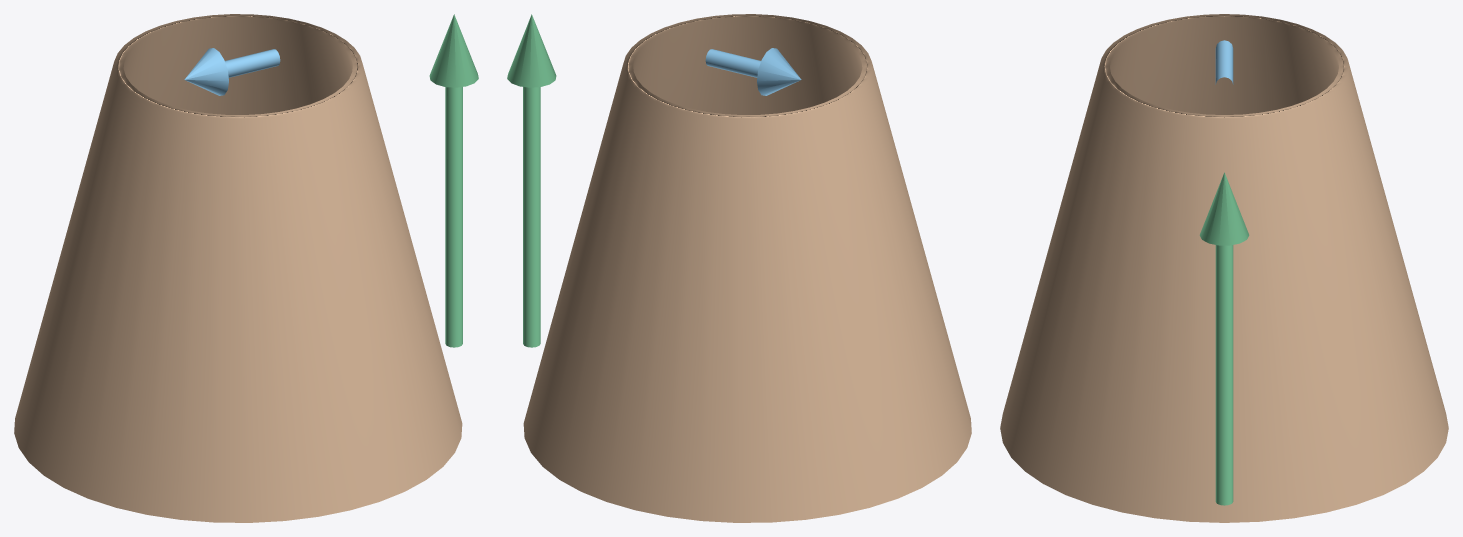
Rendered from frustum.glb.
The picture shows the model from 3 angles, left to right: view 1: azimuth 30°, elevation 25°; view 2: azimuth 150°, elevation 25°; view 3: azimuth 270°, elevation 25°; orthographic projection.
Parts seen in each view (by area): view 1: frustum, frustum_height, frustum_r2; view 2: frustum, frustum_height, frustum_r2; view 3: frustum, frustum_height, frustum_r2.
Boxes of the visible parts, bbox=[...] form: frustum: bbox=[14, 14, 462, 522]; frustum_height: bbox=[429, 14, 478, 347]; frustum_r2: bbox=[184, 48, 280, 95]; frustum: bbox=[523, 14, 971, 522]; frustum_height: bbox=[507, 14, 556, 347]; frustum_r2: bbox=[705, 48, 801, 95]; frustum: bbox=[1000, 14, 1448, 522]; frustum_height: bbox=[1199, 172, 1249, 505]; frustum_r2: bbox=[1215, 40, 1233, 84].
Bounding box in the file's own units: 1.24 × 1.11 × 1.11.
